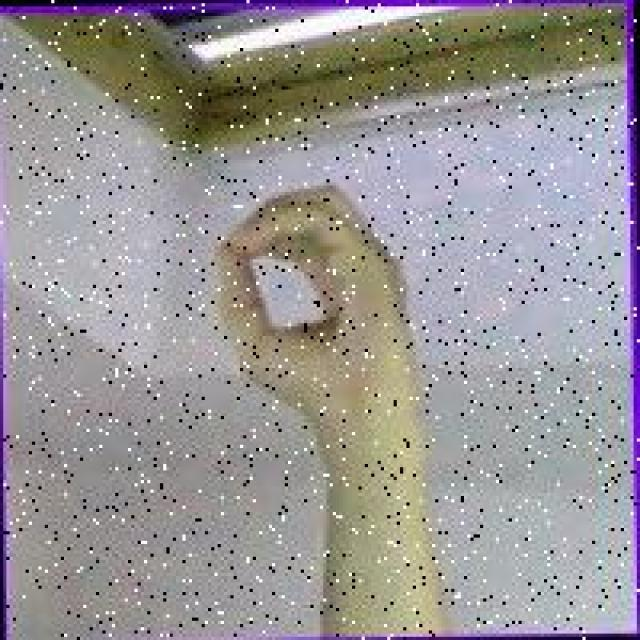O: (210, 172, 420, 430)
